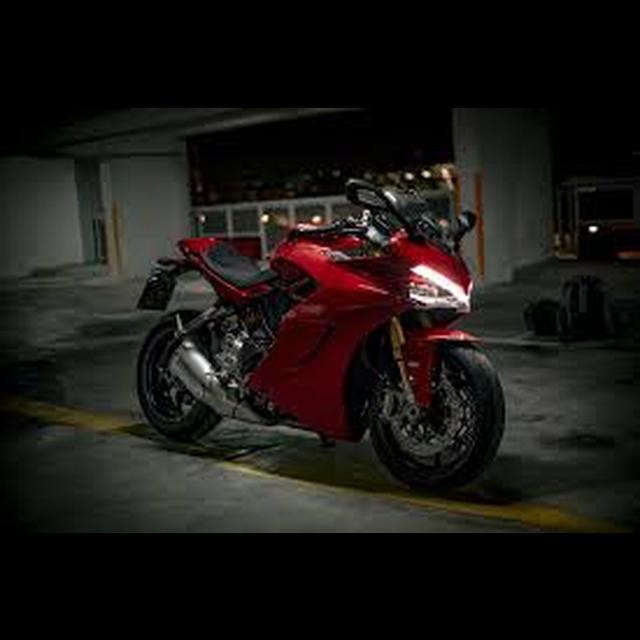motorcycle: (125, 163, 514, 503)
